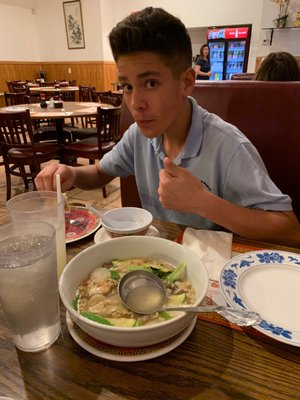pizza: (0, 221, 62, 353), (5, 189, 68, 280), (101, 207, 153, 238)
sushi: (59, 235, 210, 348), (220, 250, 300, 340), (101, 207, 153, 238)
